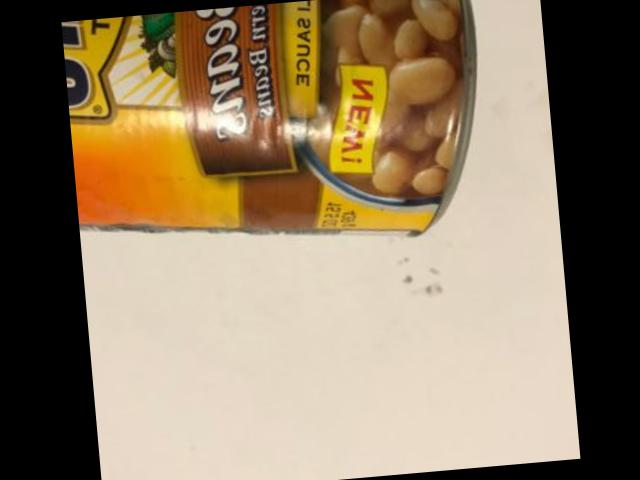metal: (60, 0, 476, 234)
